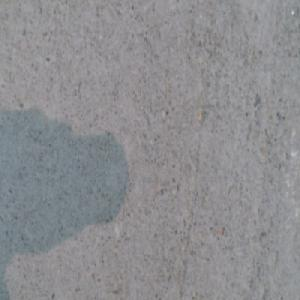Washer: (114, 286, 137, 300)
